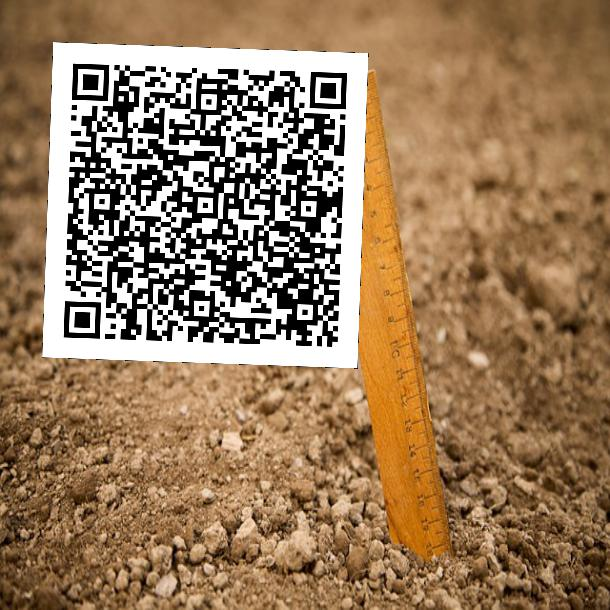qr_code: (42, 42, 368, 368)
